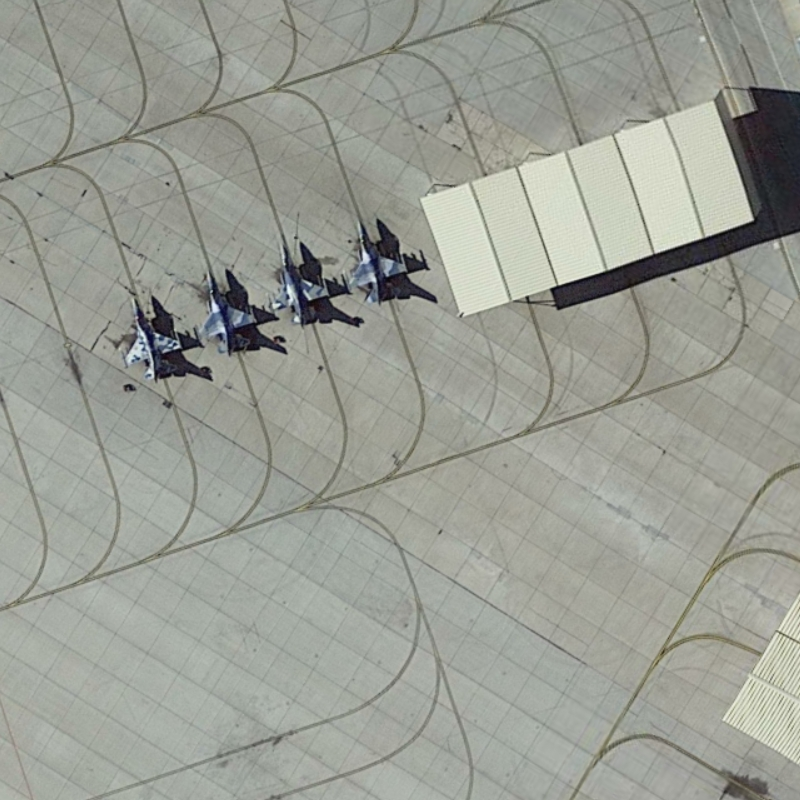A5: (261, 234, 343, 335), (189, 258, 266, 361), (110, 289, 192, 385), (339, 219, 420, 312)
